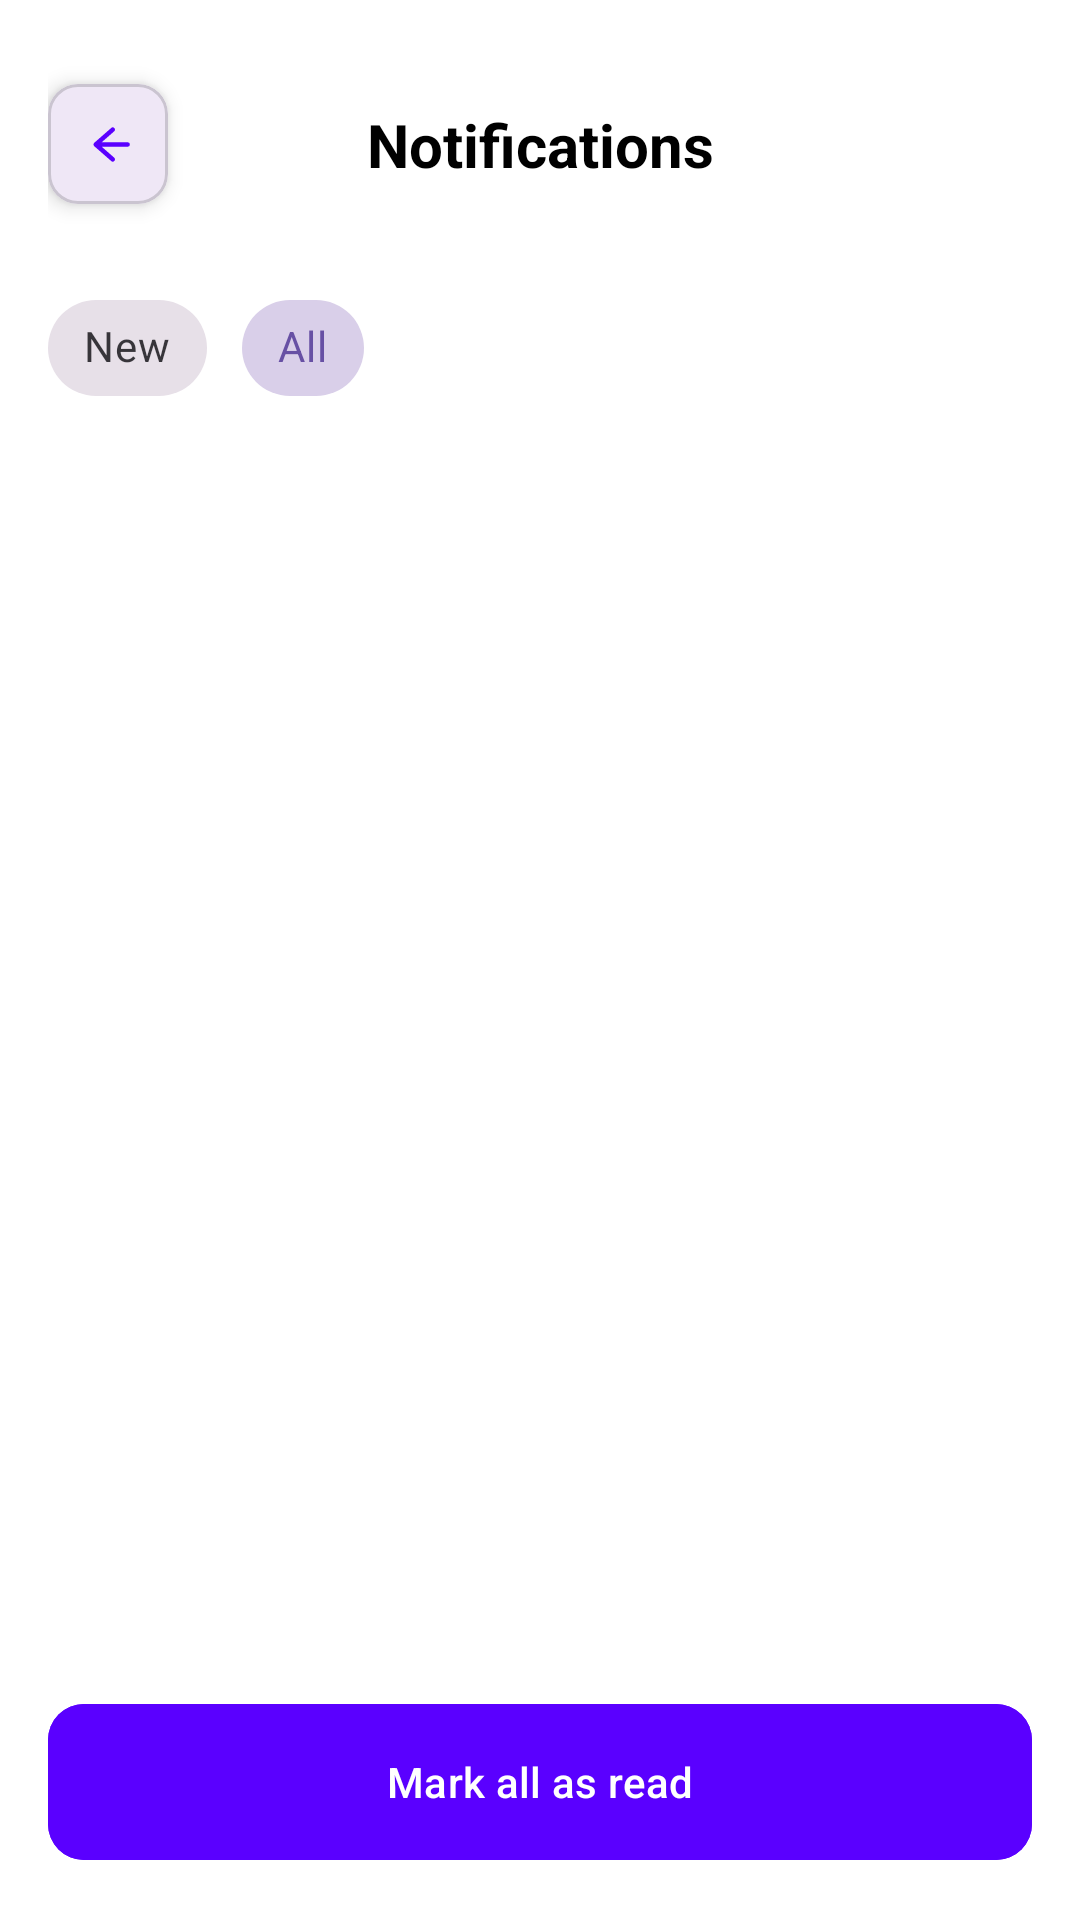

Where to tap for icons on this 1080px x 1920px app screen, as point (x, y):
Back: point (108, 144)
